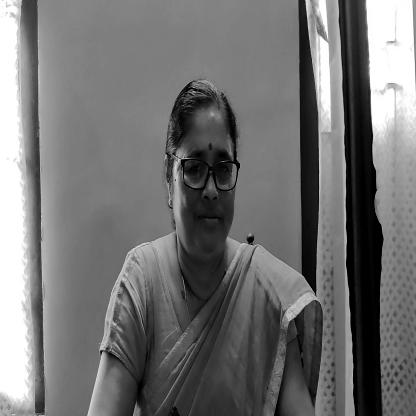Normal: (166, 81, 242, 257)
